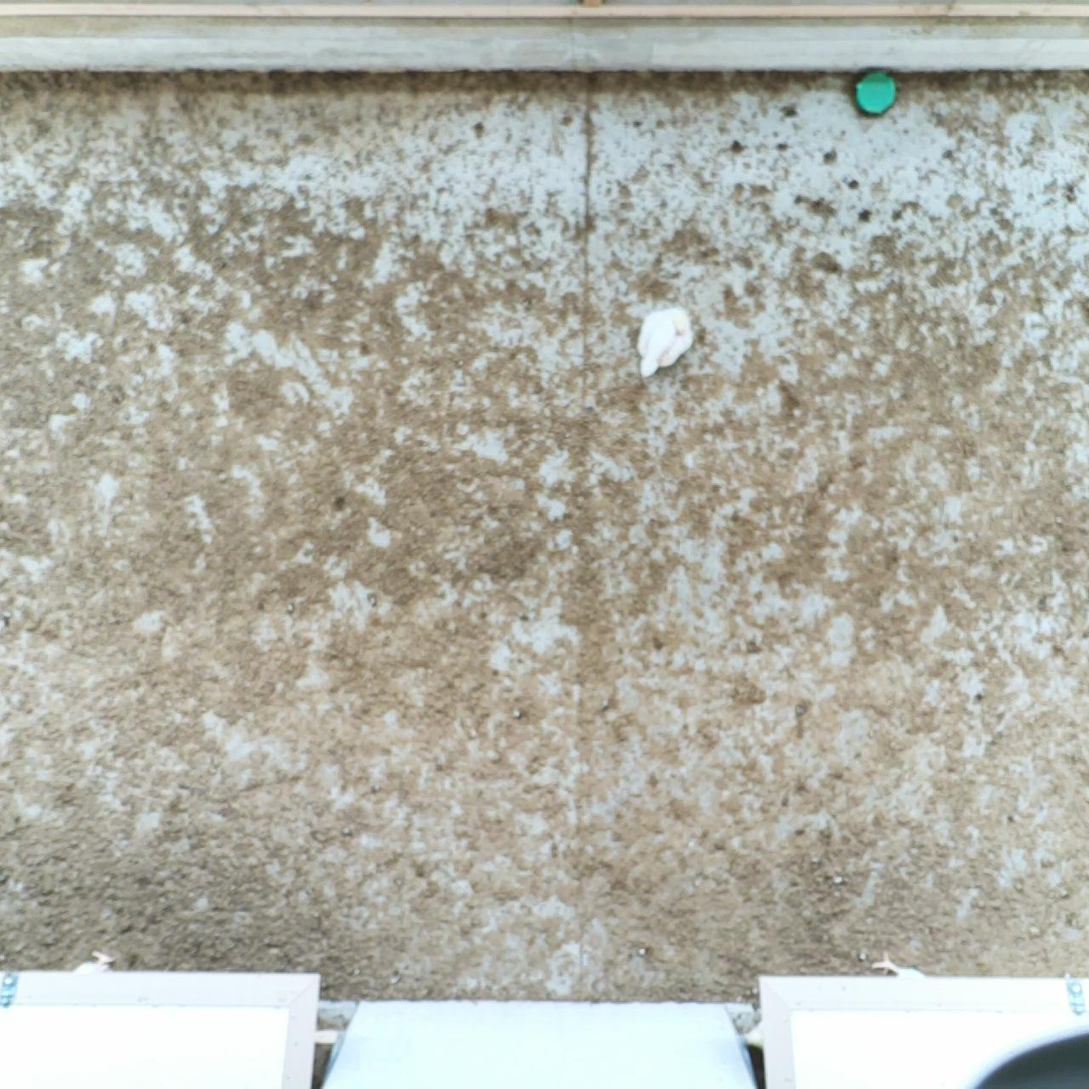chicken: (626, 300, 697, 383)
